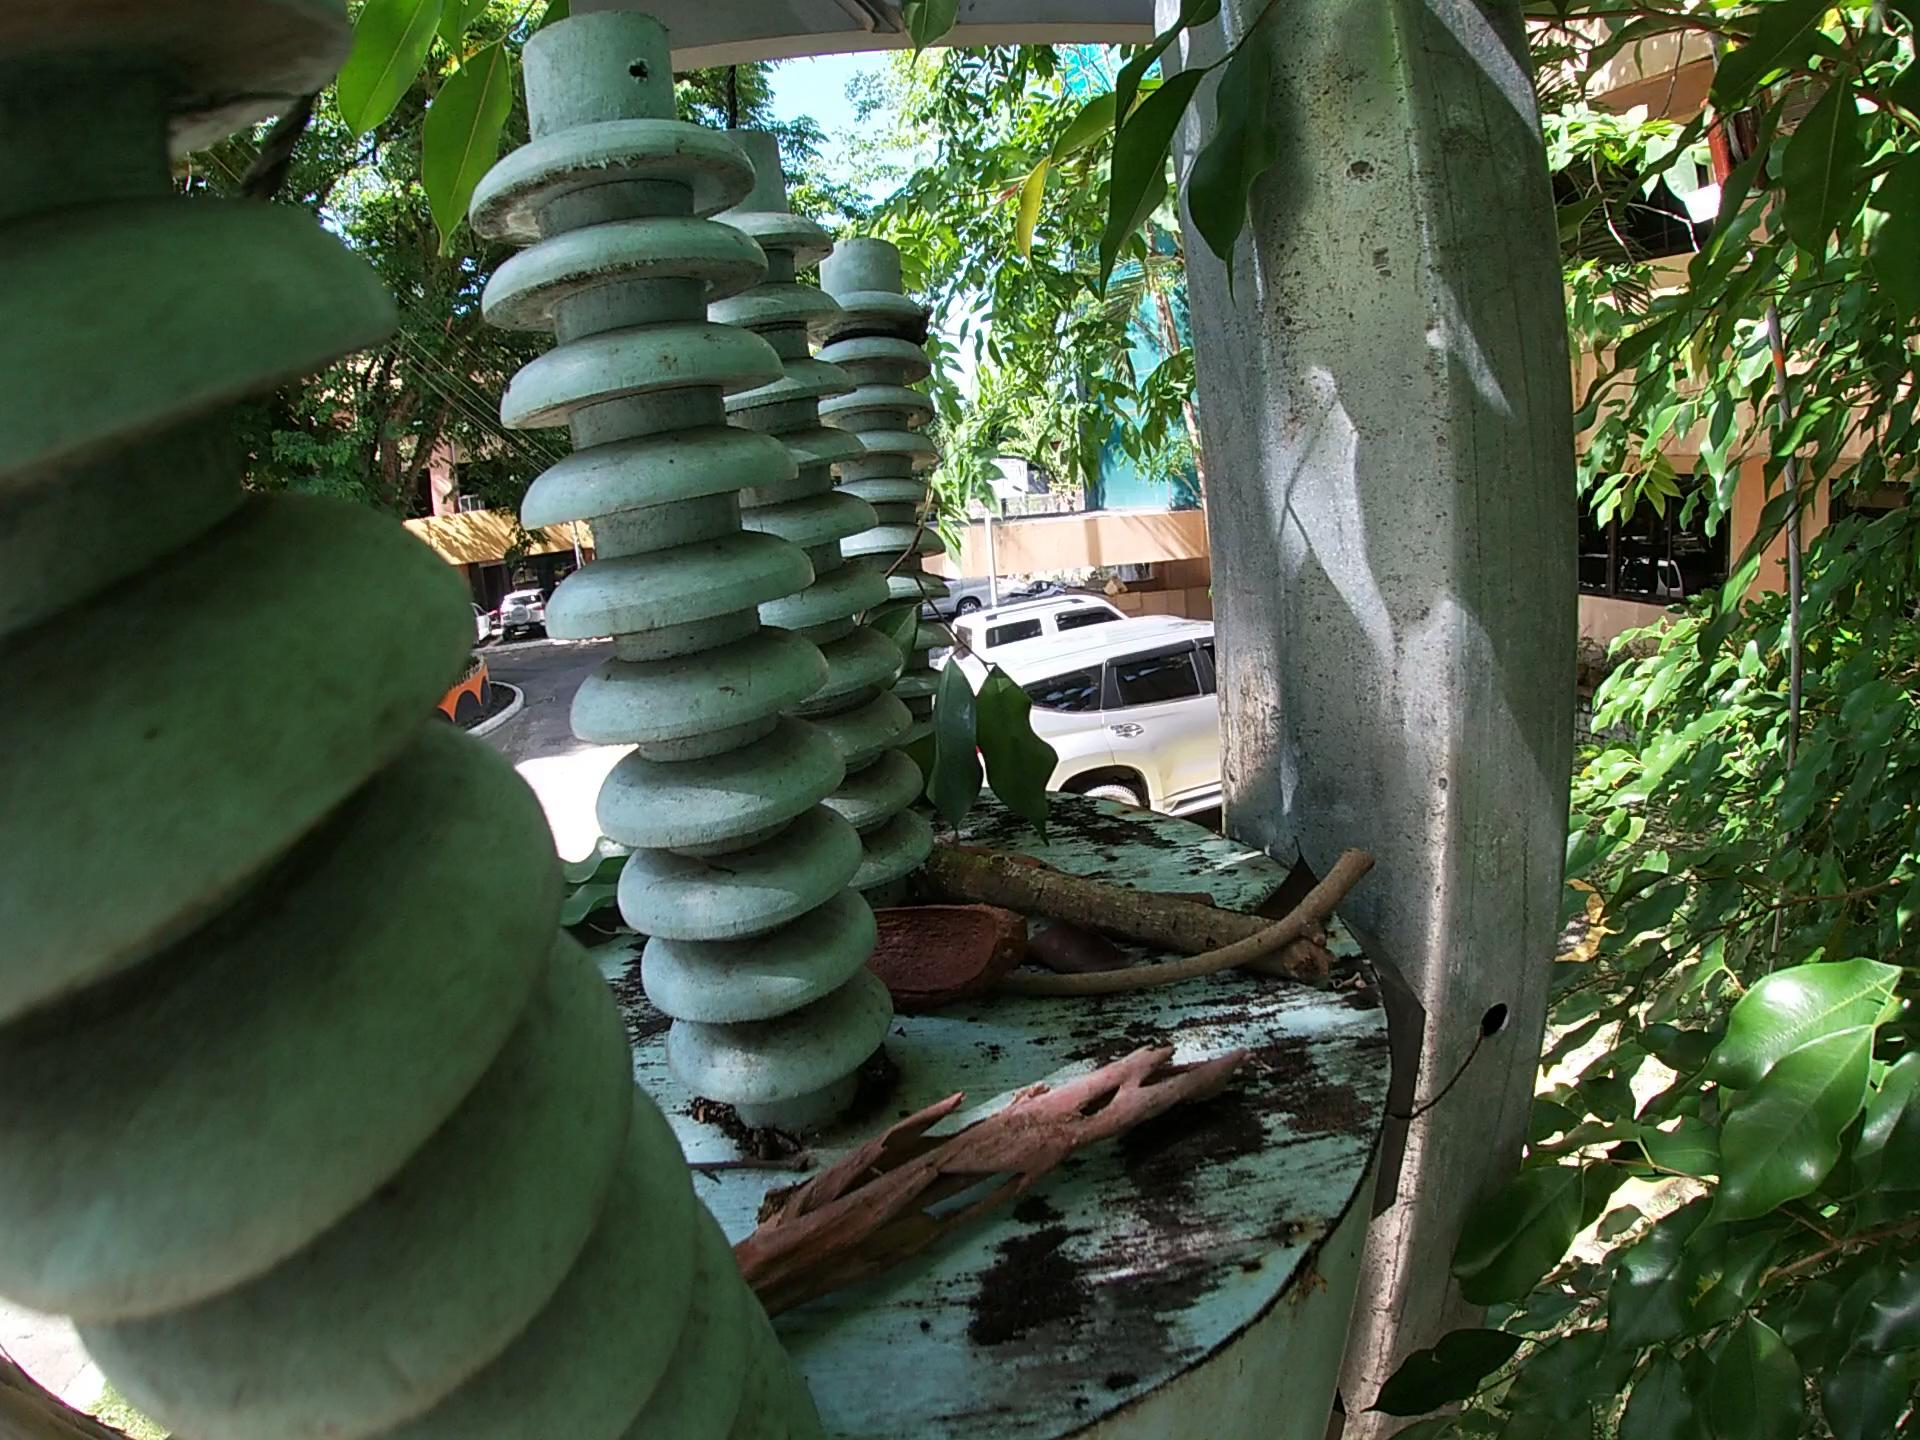branch with leaves: (848, 466, 1095, 850)
leaf: (522, 830, 643, 945)
mahogany fruit: (844, 892, 1027, 1016)
tree branch: (708, 1041, 1321, 1305), (993, 846, 1392, 1001), (928, 838, 1358, 977)
